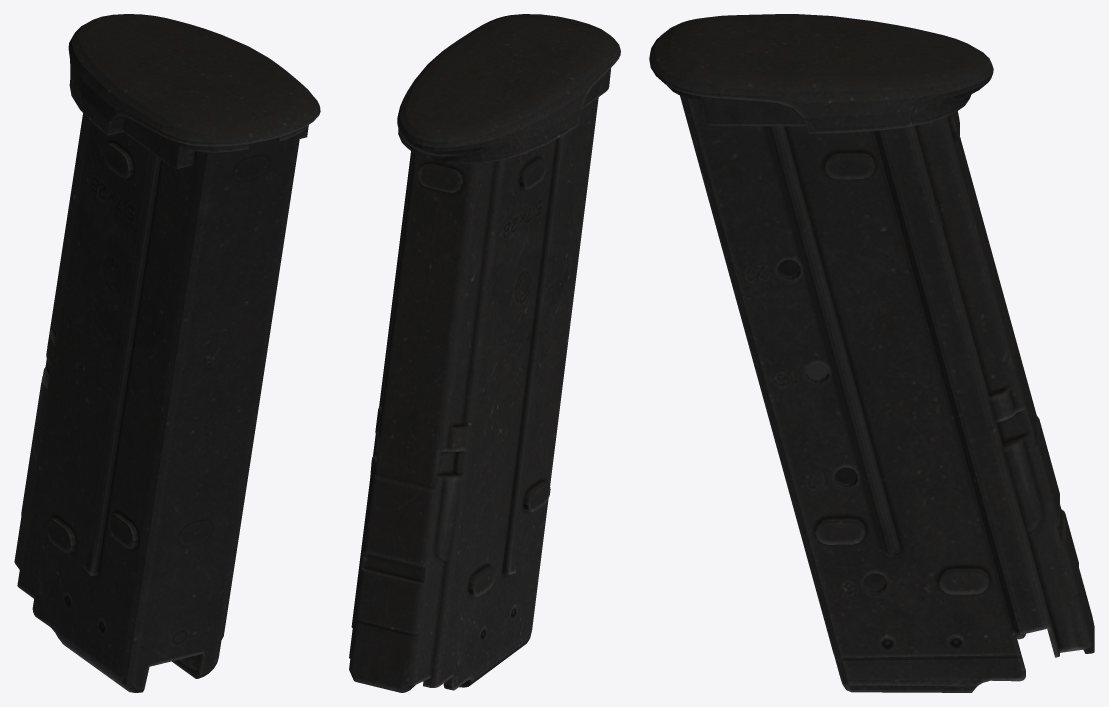
3 views of the same model, side by side, from view 1: azimuth 30°, elevation 25°; view 2: azimuth 150°, elevation 25°; view 3: azimuth 270°, elevation 25° (orthographic). The views are drawn at different scales.
Parts seen in each view (by area): view 1: TW_5d3eb5eca4b9363b1f22f8e4_PZ_Import; view 2: TW_5d3eb5eca4b9363b1f22f8e4_PZ_Import; view 3: TW_5d3eb5eca4b9363b1f22f8e4_PZ_Import.
Boxes of the visible parts, bbox=[...] form: TW_5d3eb5eca4b9363b1f22f8e4_PZ_Import: bbox=[14, 14, 320, 692]; TW_5d3eb5eca4b9363b1f22f8e4_PZ_Import: bbox=[349, 14, 620, 692]; TW_5d3eb5eca4b9363b1f22f8e4_PZ_Import: bbox=[649, 14, 1094, 692].
Size of the model in its own units: 0.0189 by 0.0438 by 0.0689.
Materials: 1 (1 with a texture image).
